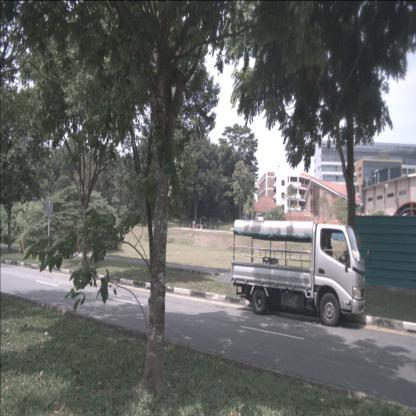vehicle-truck: (231, 219, 366, 326)
